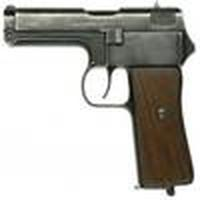gun: (5, 5, 200, 193)
